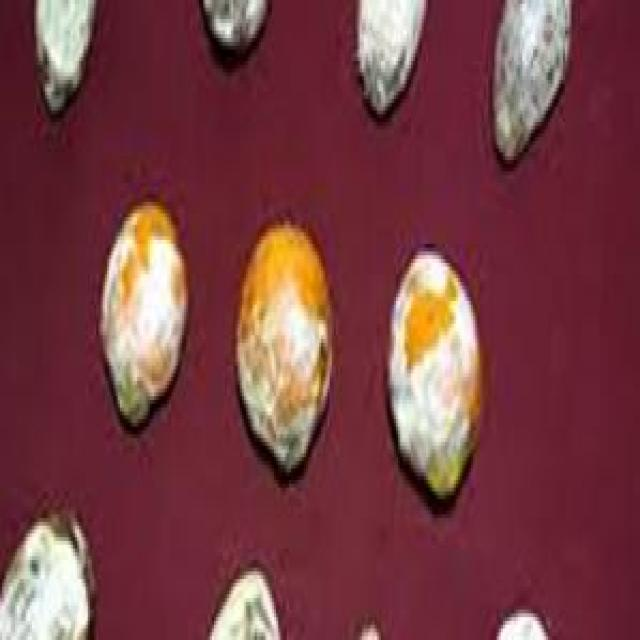damaged: (385, 248, 488, 522), (233, 221, 336, 491), (96, 202, 191, 438), (492, 0, 574, 171), (0, 510, 94, 636), (355, 0, 428, 122), (30, 0, 101, 122)
